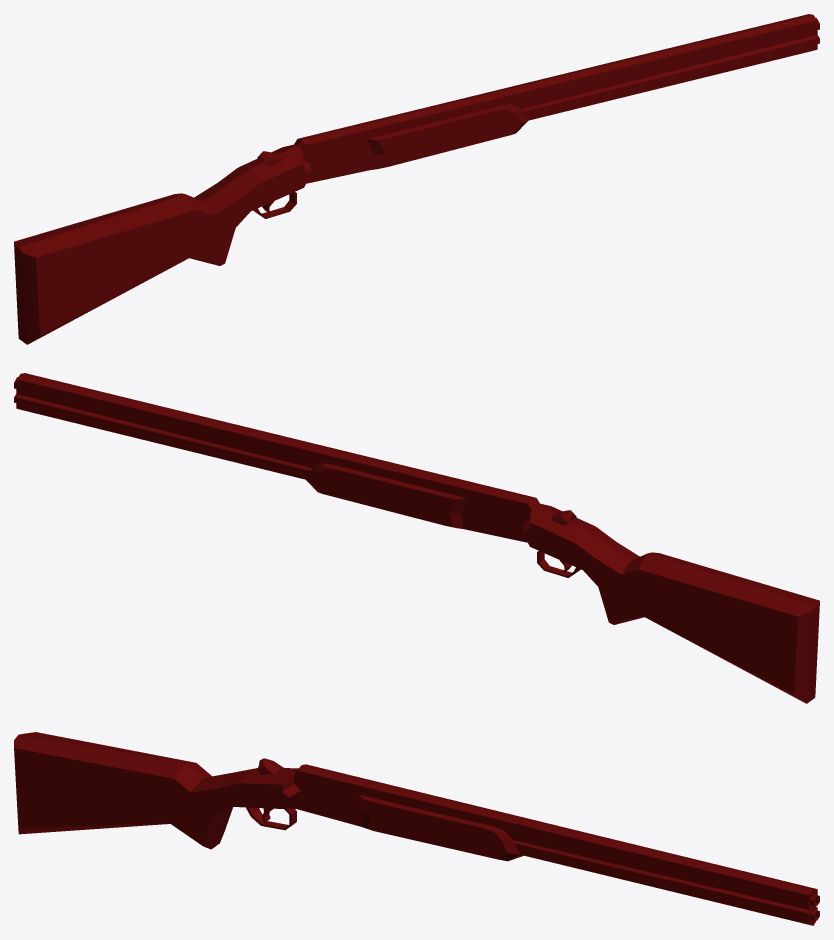
The model's file is Escopeta.fbx.
3 views of the same model, one above another, from view 1: azimuth 30°, elevation 25°; view 2: azimuth 150°, elevation 25°; view 3: azimuth 330°, elevation 25° (orthographic).
Parts seen in each view (by area): view 1: Escopeta; view 2: Escopeta; view 3: Escopeta.
Boxes of the visible parts, bbox=[...] form: Escopeta: bbox=[14, 14, 819, 344]; Escopeta: bbox=[14, 373, 819, 703]; Escopeta: bbox=[14, 732, 819, 925].
Size of the model in its own units: 432 by 69.3 by 20.46.
